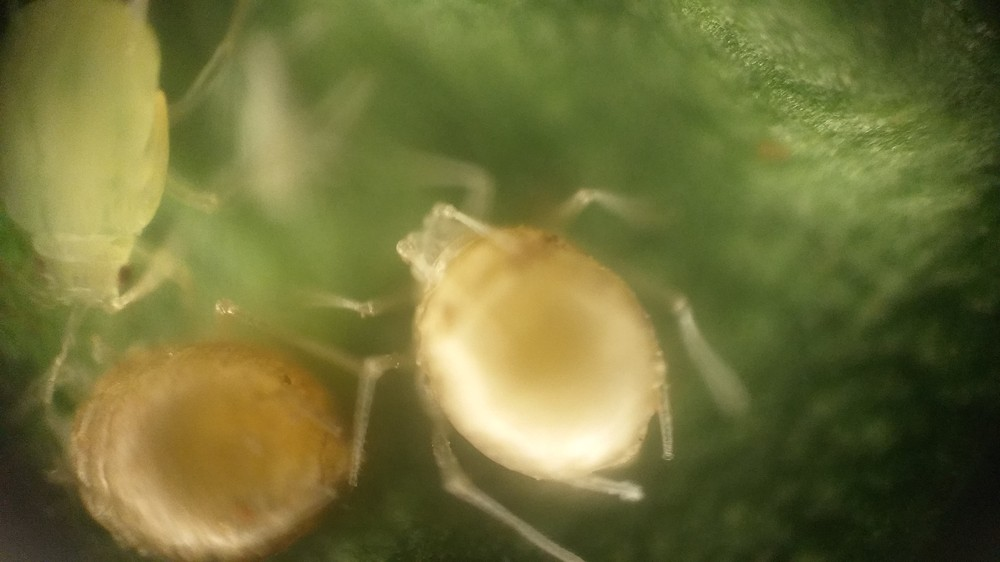Pulgon: (301, 162, 794, 562), (8, 283, 414, 562), (3, 3, 282, 336)
